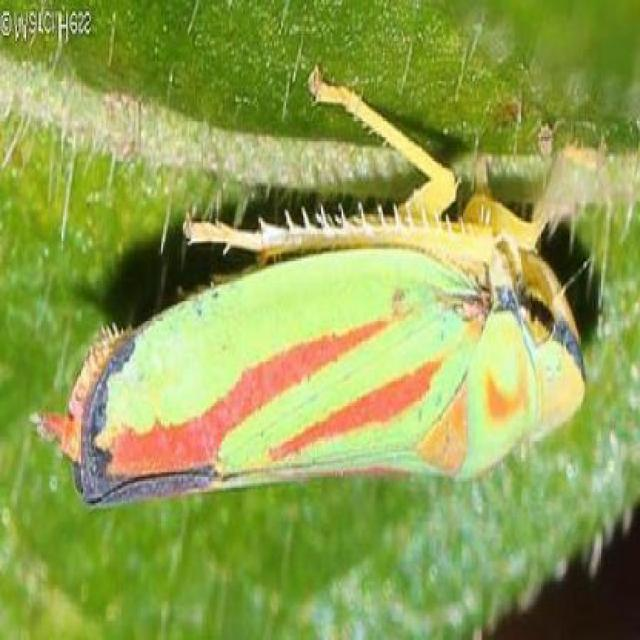green-leafhopper: (73, 229, 581, 503)
